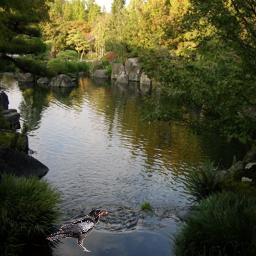Crow: (46, 207, 113, 252)
